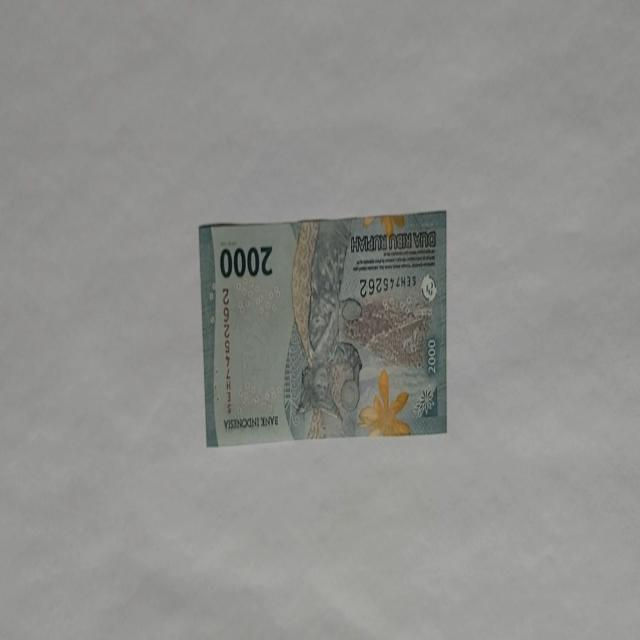dua ribu rupiah: (198, 210, 448, 448)
